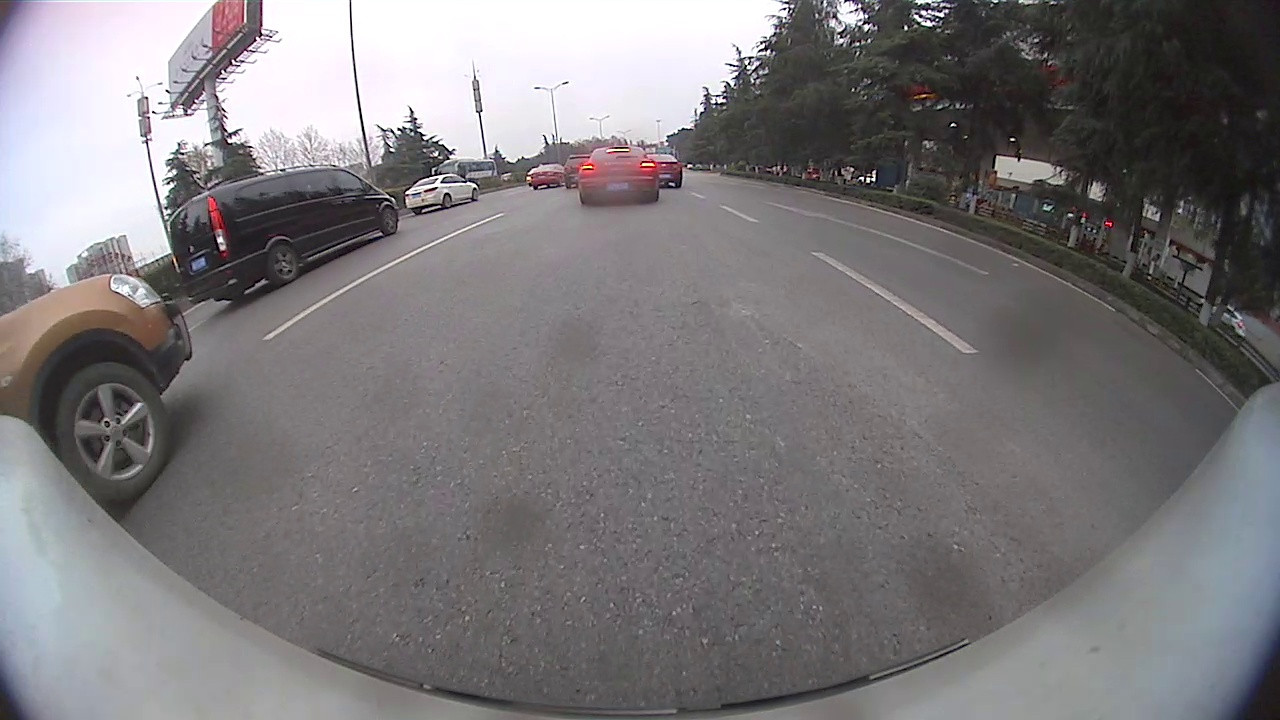car: (2, 272, 190, 507), (166, 169, 399, 301), (580, 145, 660, 208), (404, 174, 480, 213), (643, 152, 683, 187)
front: (51, 360, 174, 503), (377, 204, 399, 238), (470, 187, 480, 202)
rear: (263, 242, 300, 287), (442, 193, 454, 209)
